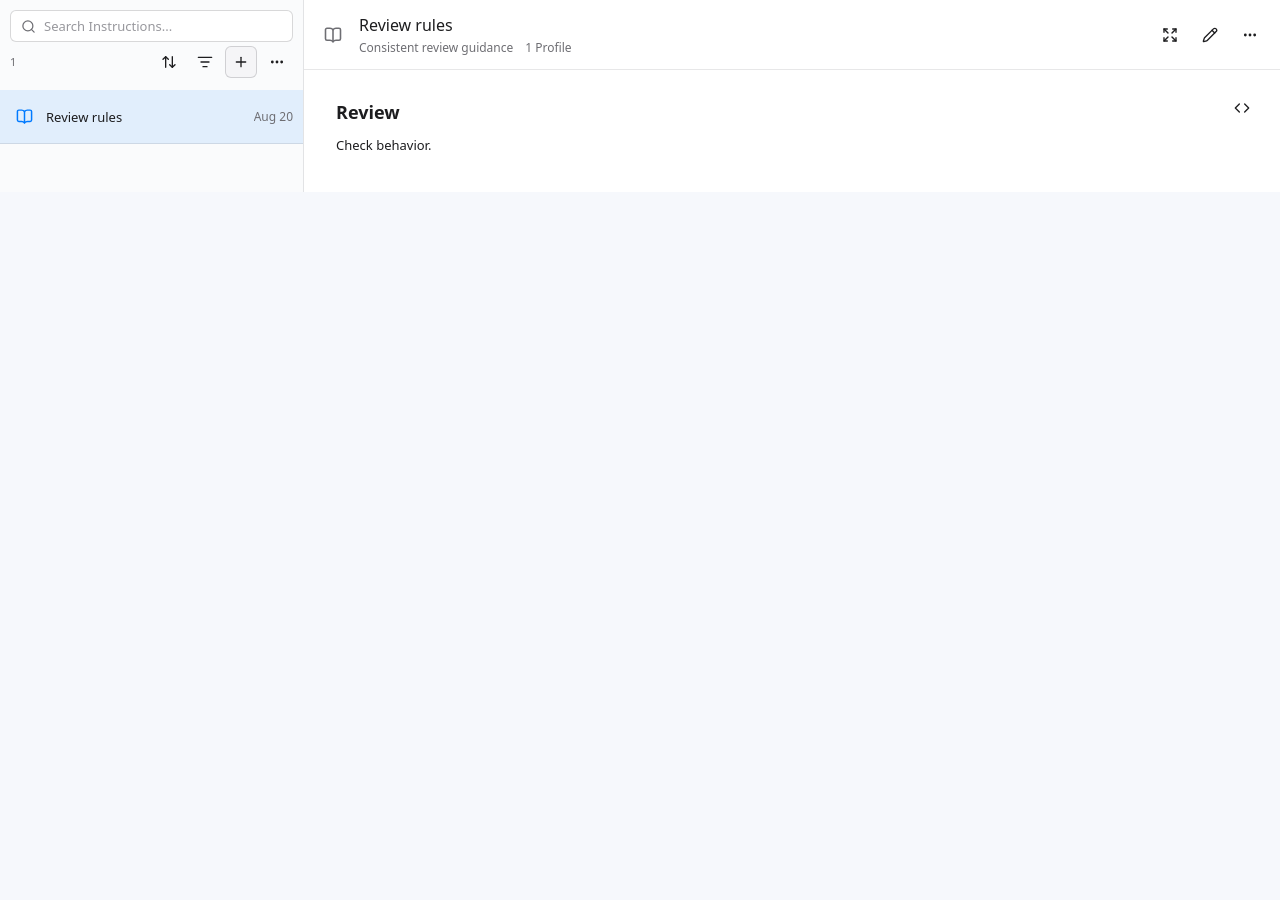
InstructionsWorkspace › shows referenced Profiles and lets users review a cascading delete
Expected: the text "Review rules" is shown, [46,108,122,126]
Expected: the text "Consistent review guidance" is shown once, [359,38,513,56]
Step 1. Click the button named "More actions for Review rules" → (1250, 34), box [1234,18,1266,50]
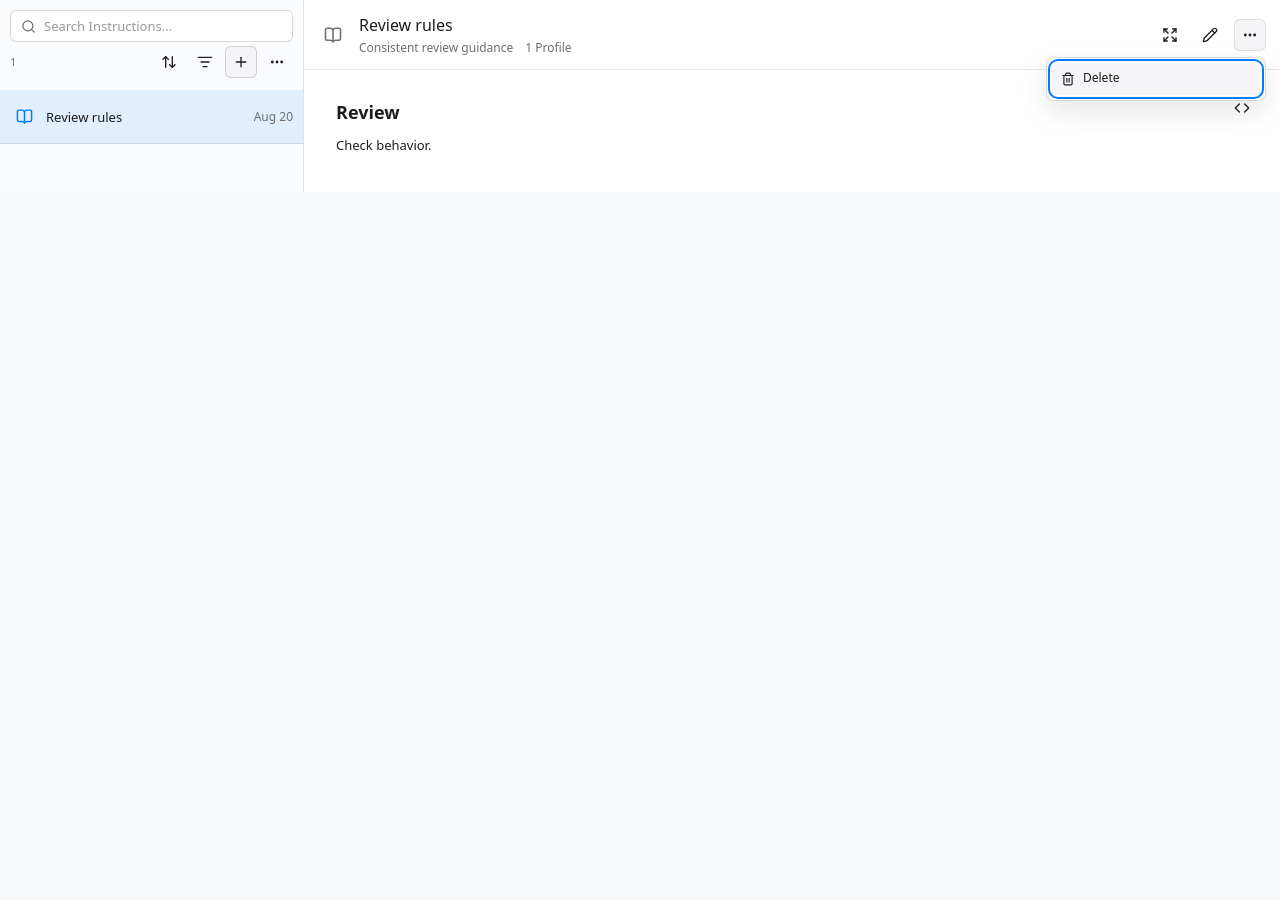
Step 2. Click the menu item "Delete" → (1156, 78), box [1052,62,1260,94]
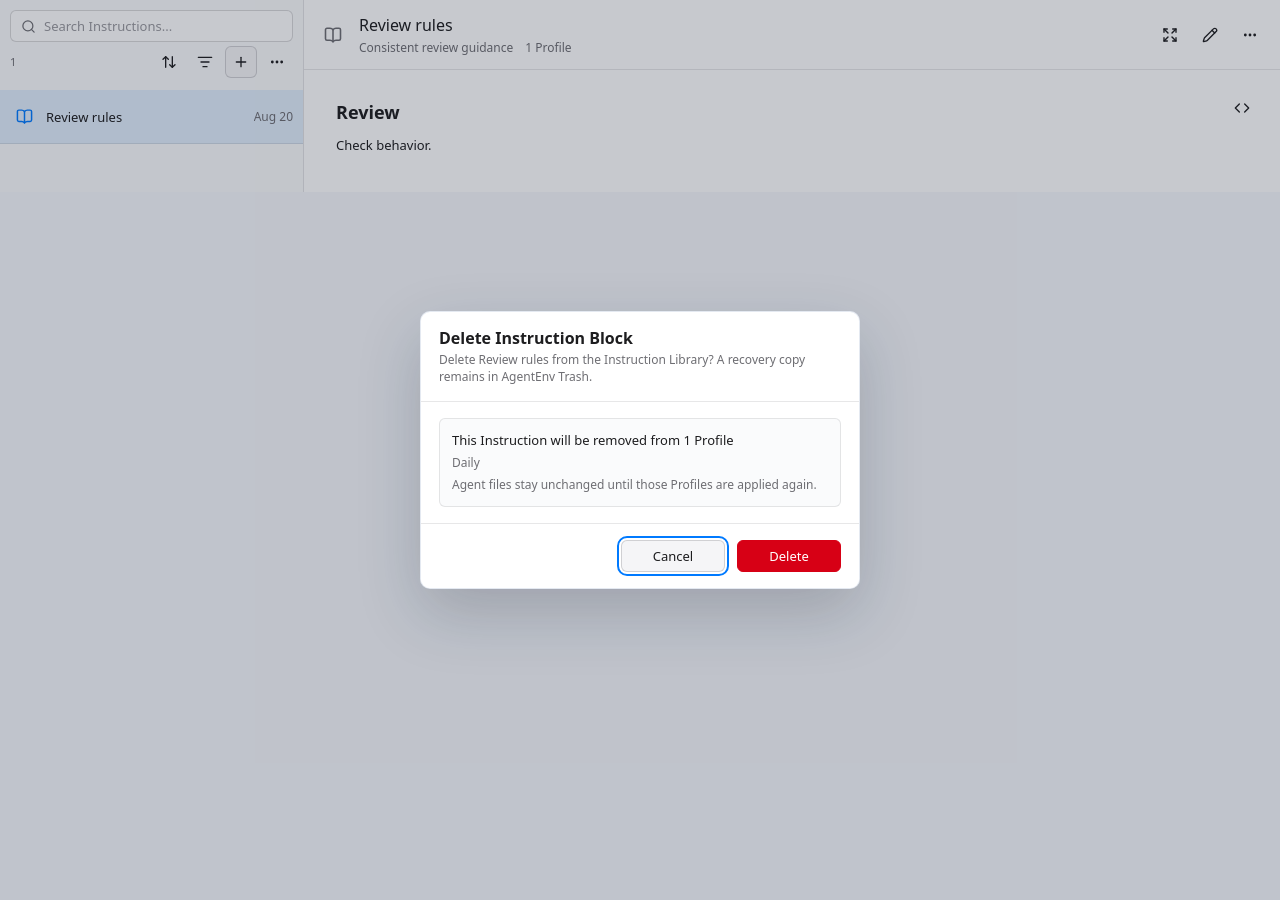
Expected: the dialog "Delete Instruction Block" shows "Daily", [452,454,480,471]
Expected: the dialog "Delete Instruction Block" shows "removed from 1 Profile", [452,431,734,449]
